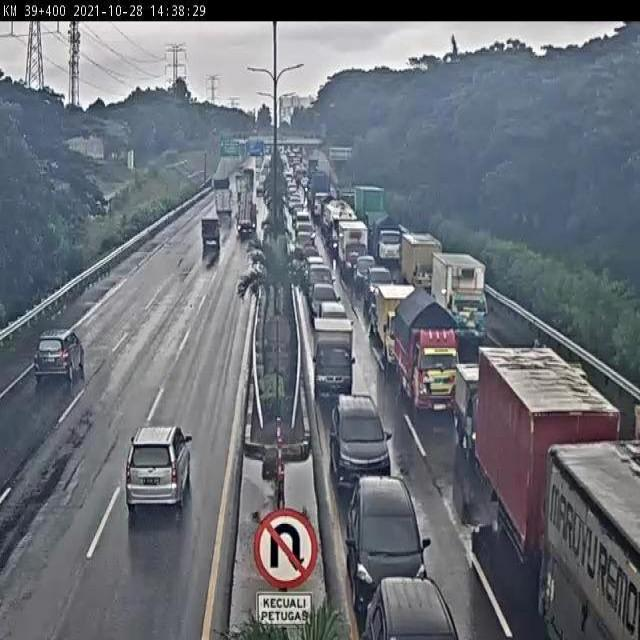car: (342, 472, 446, 593), (355, 574, 472, 640), (128, 430, 187, 510), (330, 405, 383, 484), (35, 317, 77, 395), (317, 332, 356, 397), (463, 376, 491, 463), (371, 275, 393, 316), (314, 291, 340, 319), (306, 273, 329, 295), (357, 268, 373, 296), (301, 247, 319, 268), (294, 217, 310, 239), (290, 197, 305, 215), (284, 180, 296, 197), (289, 191, 301, 204), (290, 178, 291, 182), (318, 272, 319, 276)
truck: (493, 368, 609, 569), (551, 447, 640, 615), (408, 304, 467, 427), (445, 277, 498, 360), (386, 309, 424, 400), (406, 244, 440, 297), (194, 211, 227, 260), (325, 208, 351, 259), (374, 235, 407, 275), (349, 231, 373, 284), (359, 199, 388, 241), (240, 187, 263, 228), (313, 176, 332, 224), (218, 176, 241, 211), (257, 163, 273, 189), (233, 163, 249, 188), (209, 167, 227, 189), (524, 405, 529, 412), (225, 178, 228, 182), (241, 184, 242, 189)
